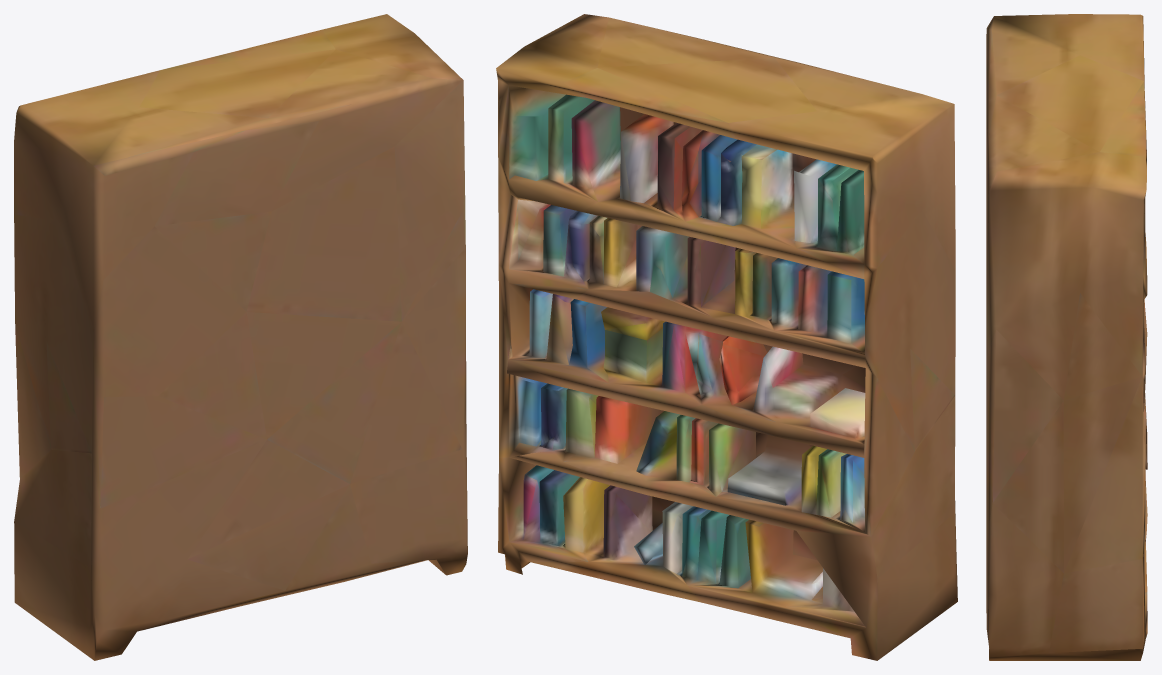
File: shop-books.glb
The picture shows the model from 3 angles, left to right: view 1: azimuth 30°, elevation 25°; view 2: azimuth 150°, elevation 25°; view 3: azimuth 270°, elevation 25°; orthographic projection. The views are drawn at different scales.
Visible parts, largest first — view 1: tripo_node_f024cdcd-dbc0-4b7f-bd18-02a4c9216a1c; view 2: tripo_node_f024cdcd-dbc0-4b7f-bd18-02a4c9216a1c; view 3: tripo_node_f024cdcd-dbc0-4b7f-bd18-02a4c9216a1c.
Part boxes in pixels (bbox=[...]): tripo_node_f024cdcd-dbc0-4b7f-bd18-02a4c9216a1c: bbox=[14, 14, 467, 660]; tripo_node_f024cdcd-dbc0-4b7f-bd18-02a4c9216a1c: bbox=[496, 14, 957, 660]; tripo_node_f024cdcd-dbc0-4b7f-bd18-02a4c9216a1c: bbox=[986, 14, 1147, 660].
Size of the model in its own units: 1.58 by 2 by 0.6129.
1 material, 1 textured.
